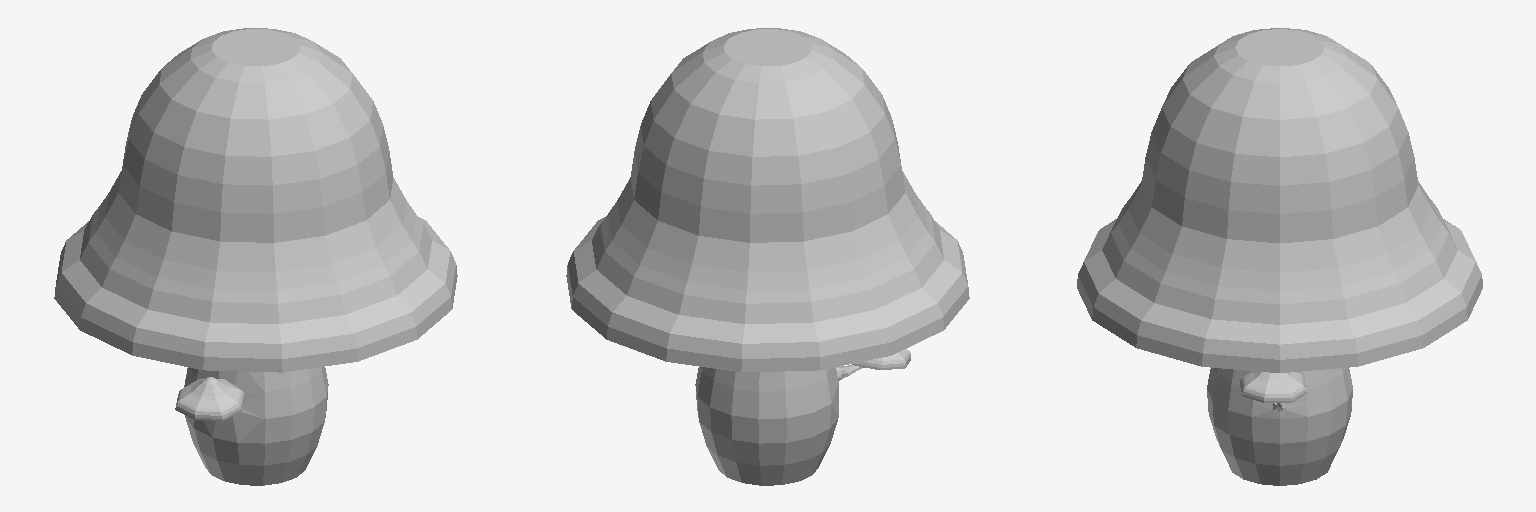
The model's file is PECURKA.obj.
3 views of the same model, side by side, from view 1: azimuth 30°, elevation 25°; view 2: azimuth 150°, elevation 25°; view 3: azimuth 270°, elevation 25° (orthographic).
Visible parts, largest first — view 1: Mushroom; view 2: Mushroom; view 3: Mushroom.
Boxes of the visible parts, box(x1,y1,x2,y2) form: Mushroom: box(54, 28, 457, 485); Mushroom: box(566, 28, 969, 485); Mushroom: box(1077, 28, 1482, 485).
Bounding box in the file's own units: 14.21 × 16.06 × 14.21.